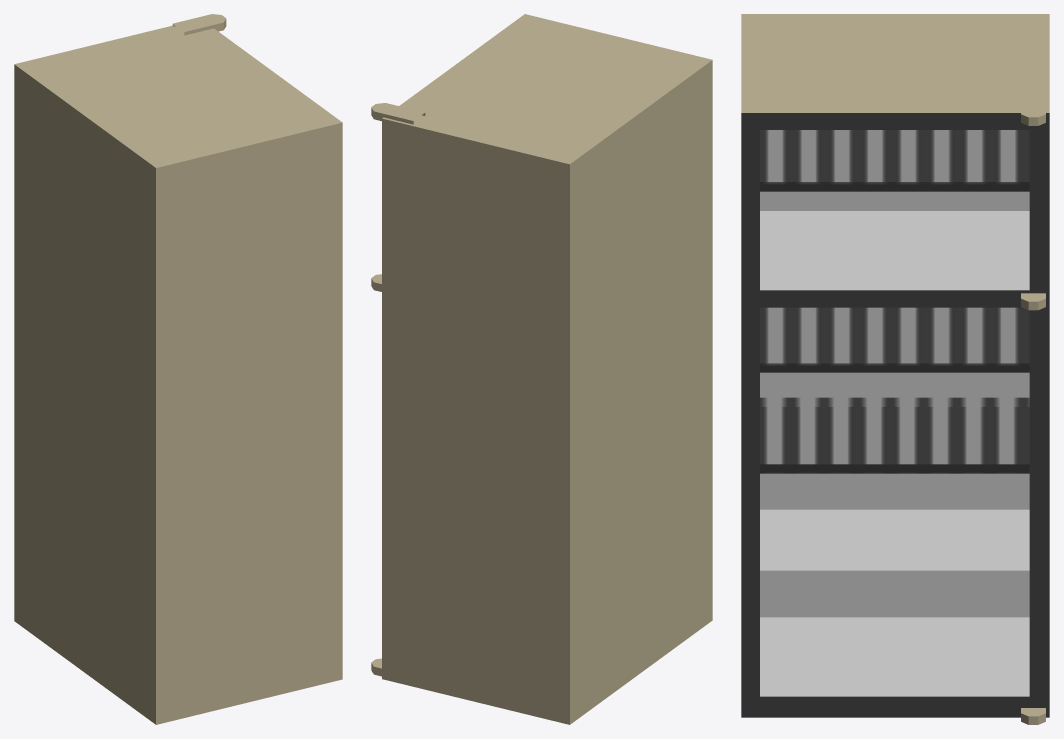
The model's file is House_Demo_041-col.glb.
3 renders of one model, left to right at view 1: azimuth 30°, elevation 25°; view 2: azimuth 150°, elevation 25°; view 3: azimuth 270°, elevation 25°, orthographic. The views are drawn at different scales.
Visible parts, largest first — view 1: House_Demo_041-col; view 2: House_Demo_041-col; view 3: House_Demo_041-col.
Boxes of the visible parts, x1,y1,x2,y2 form: House_Demo_041-col: [14, 14, 342, 724]; House_Demo_041-col: [371, 14, 712, 724]; House_Demo_041-col: [741, 14, 1049, 724].
Bounding box in the file's own units: 0.7895 × 2.09 × 0.9581.
1 material, 1 textured.
